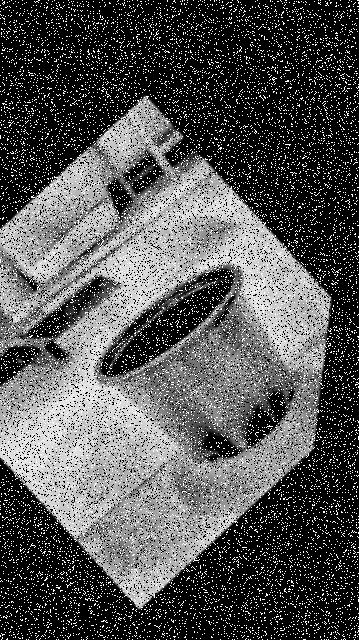pot: (94, 264, 293, 462)
